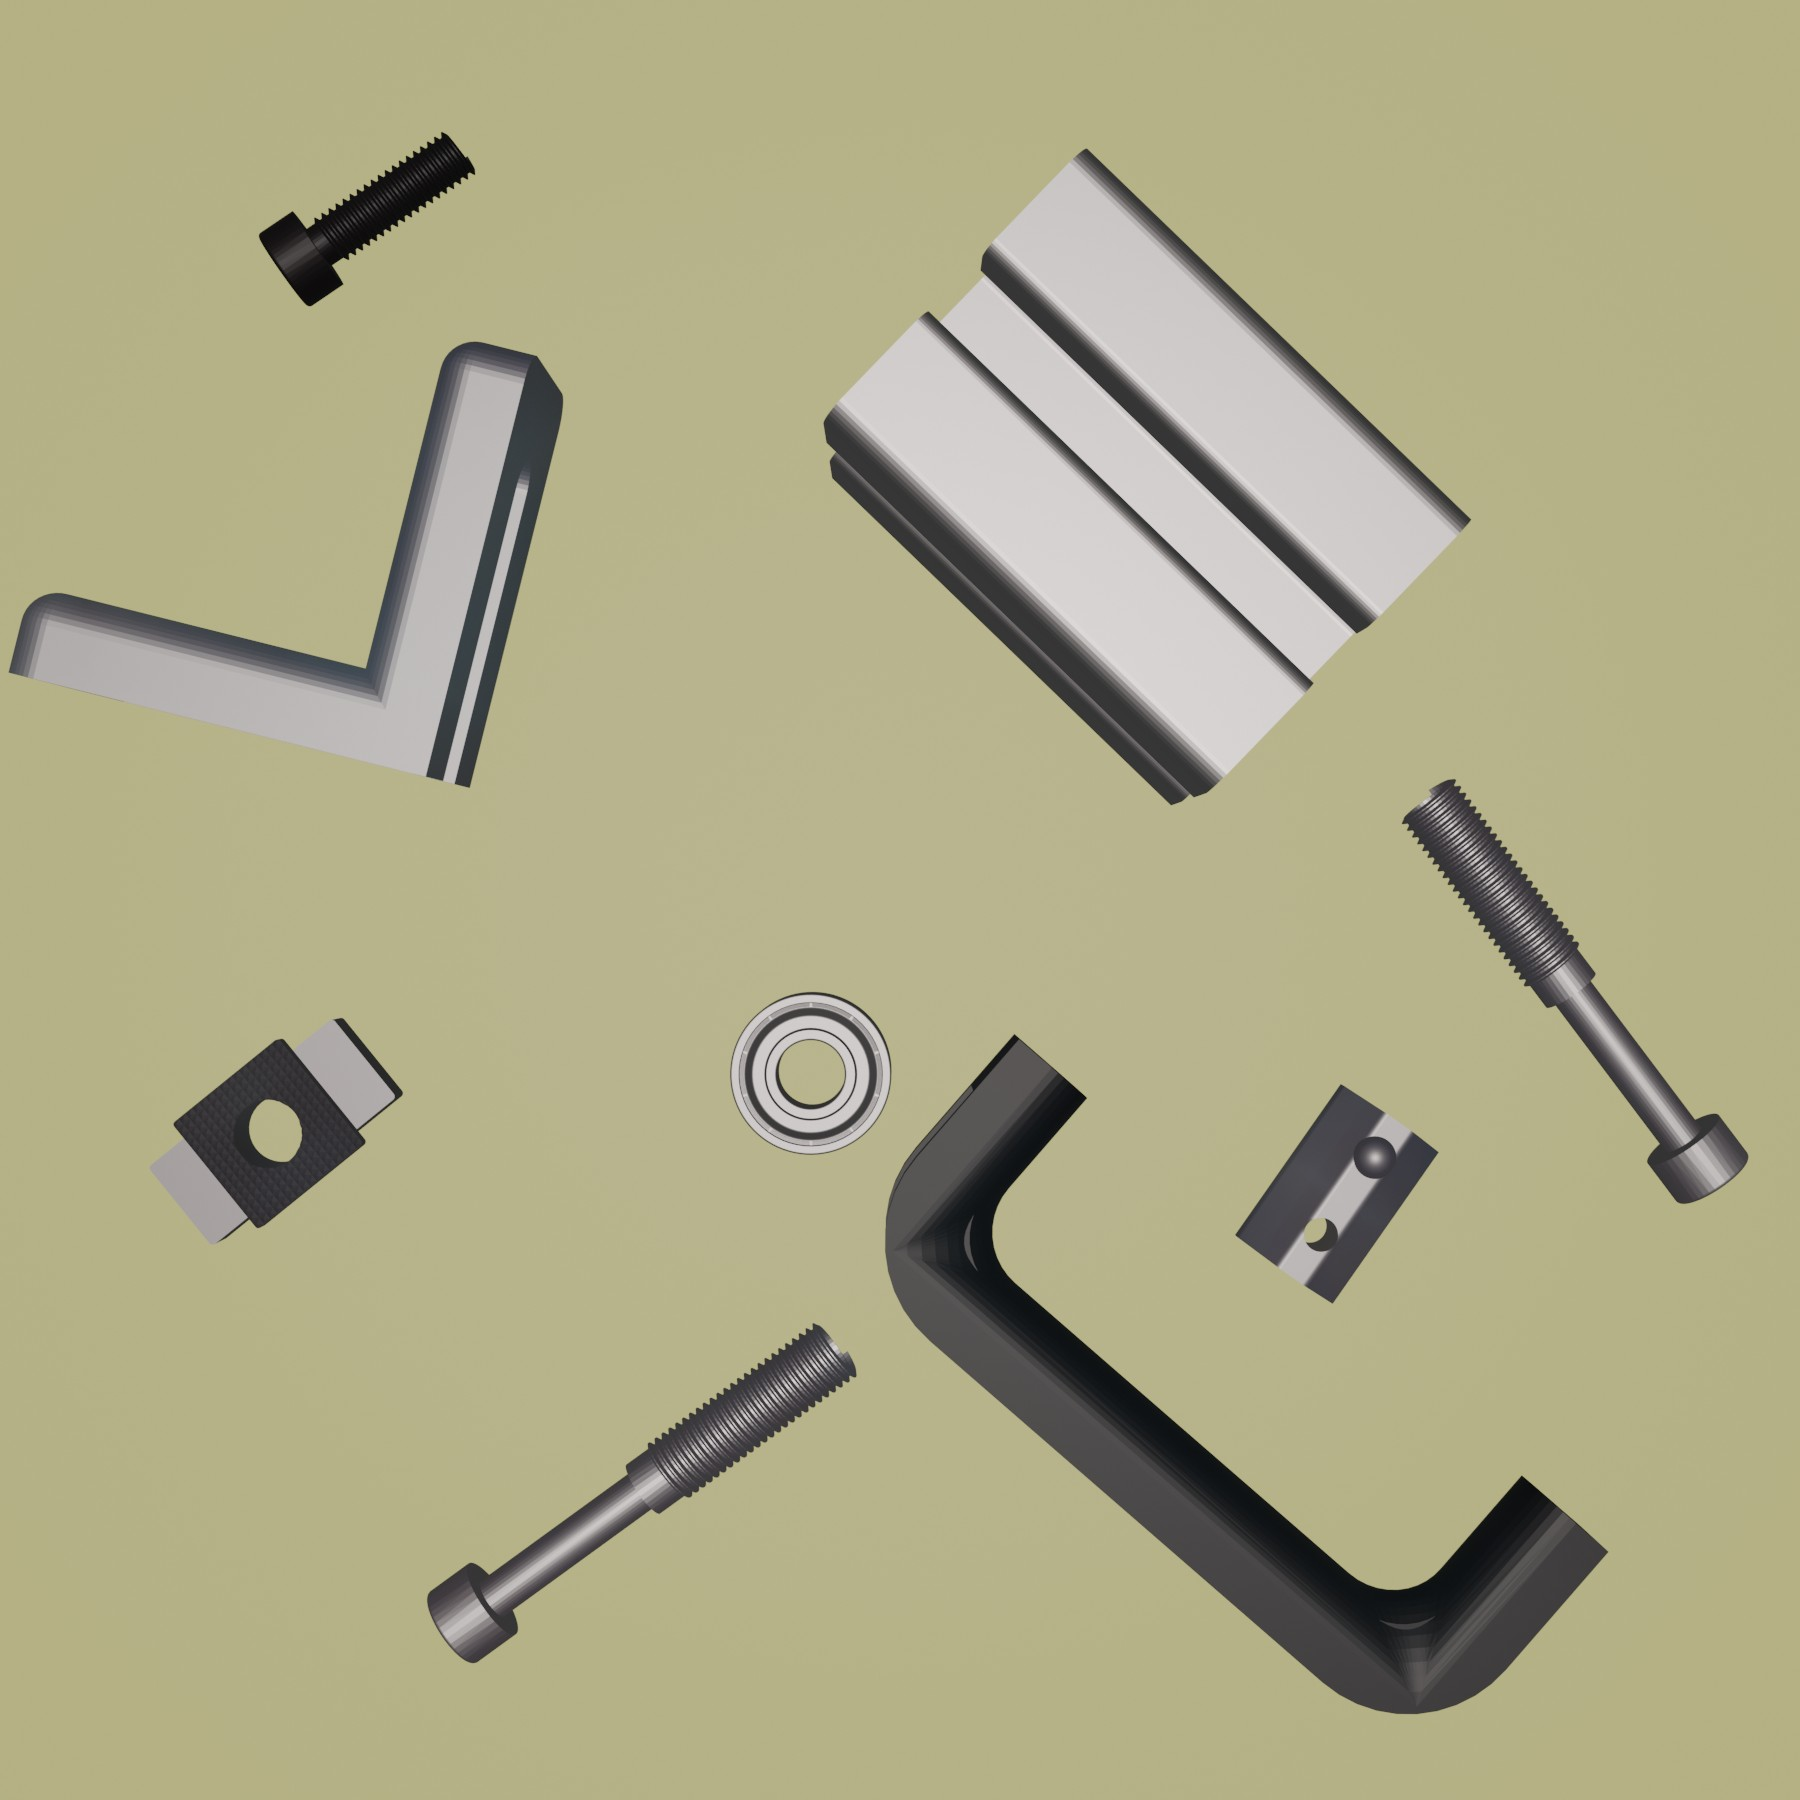Aluminium Extension: (819, 142, 1474, 808)
Ball Bearing: (729, 992, 892, 1157)
Multiwinkel: (3, 338, 565, 790)
Pull Handle: (884, 1030, 1610, 1716)
Shoulder Socket Head Cap Screw: (425, 1319, 855, 1666), (1401, 778, 1751, 1205)
Socket Head Cap Screw: (255, 127, 480, 308)
T Nut Square: (147, 1015, 405, 1248)
T Spring Nut: (1233, 1081, 1442, 1307)
